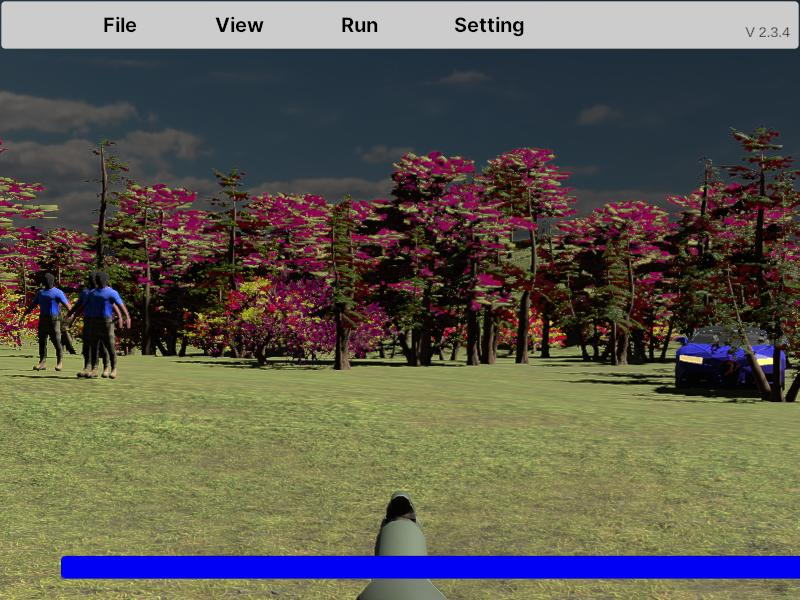Human: (68, 272, 129, 379), (22, 272, 75, 372)
car: (674, 324, 788, 397)
